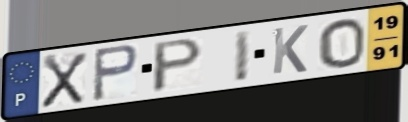I: (233, 28, 254, 85)
K: (270, 23, 310, 77)
O: (316, 17, 367, 70)
P: (150, 36, 206, 96), (90, 42, 141, 103)
X: (39, 50, 90, 110)
